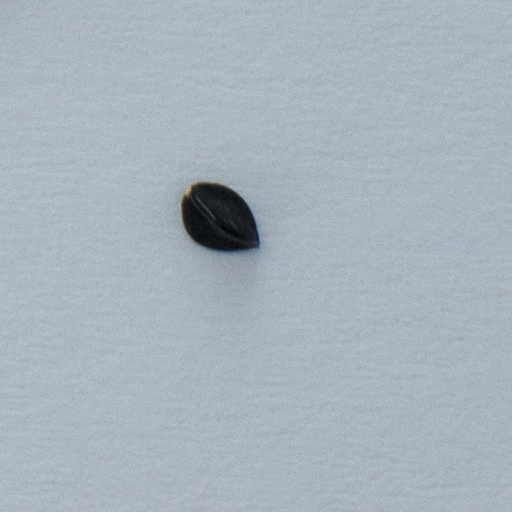Fallopia-Convolvulus-poly: (182, 182, 258, 250)
